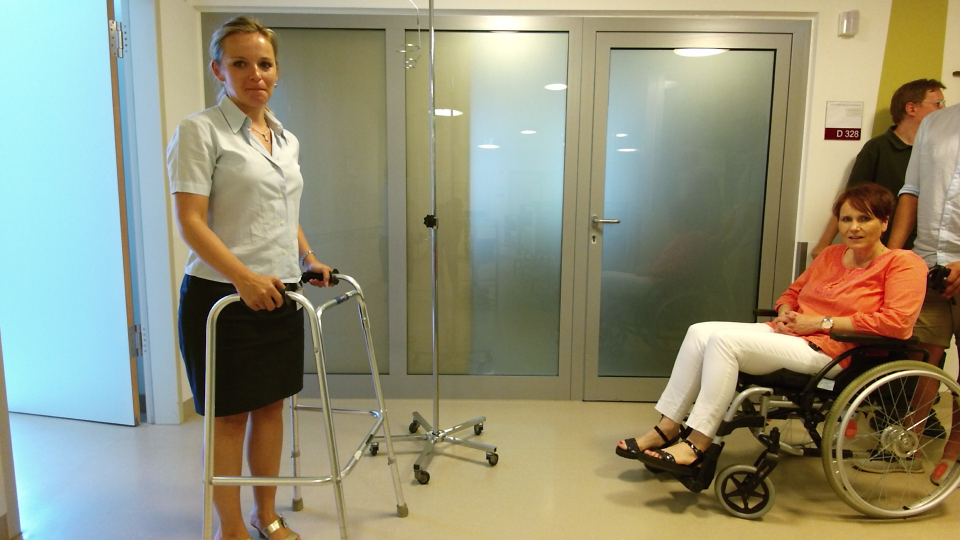wheelchair: (611, 183, 956, 530)
